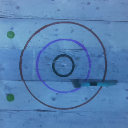Axe Tip: (71, 78, 81, 82)
